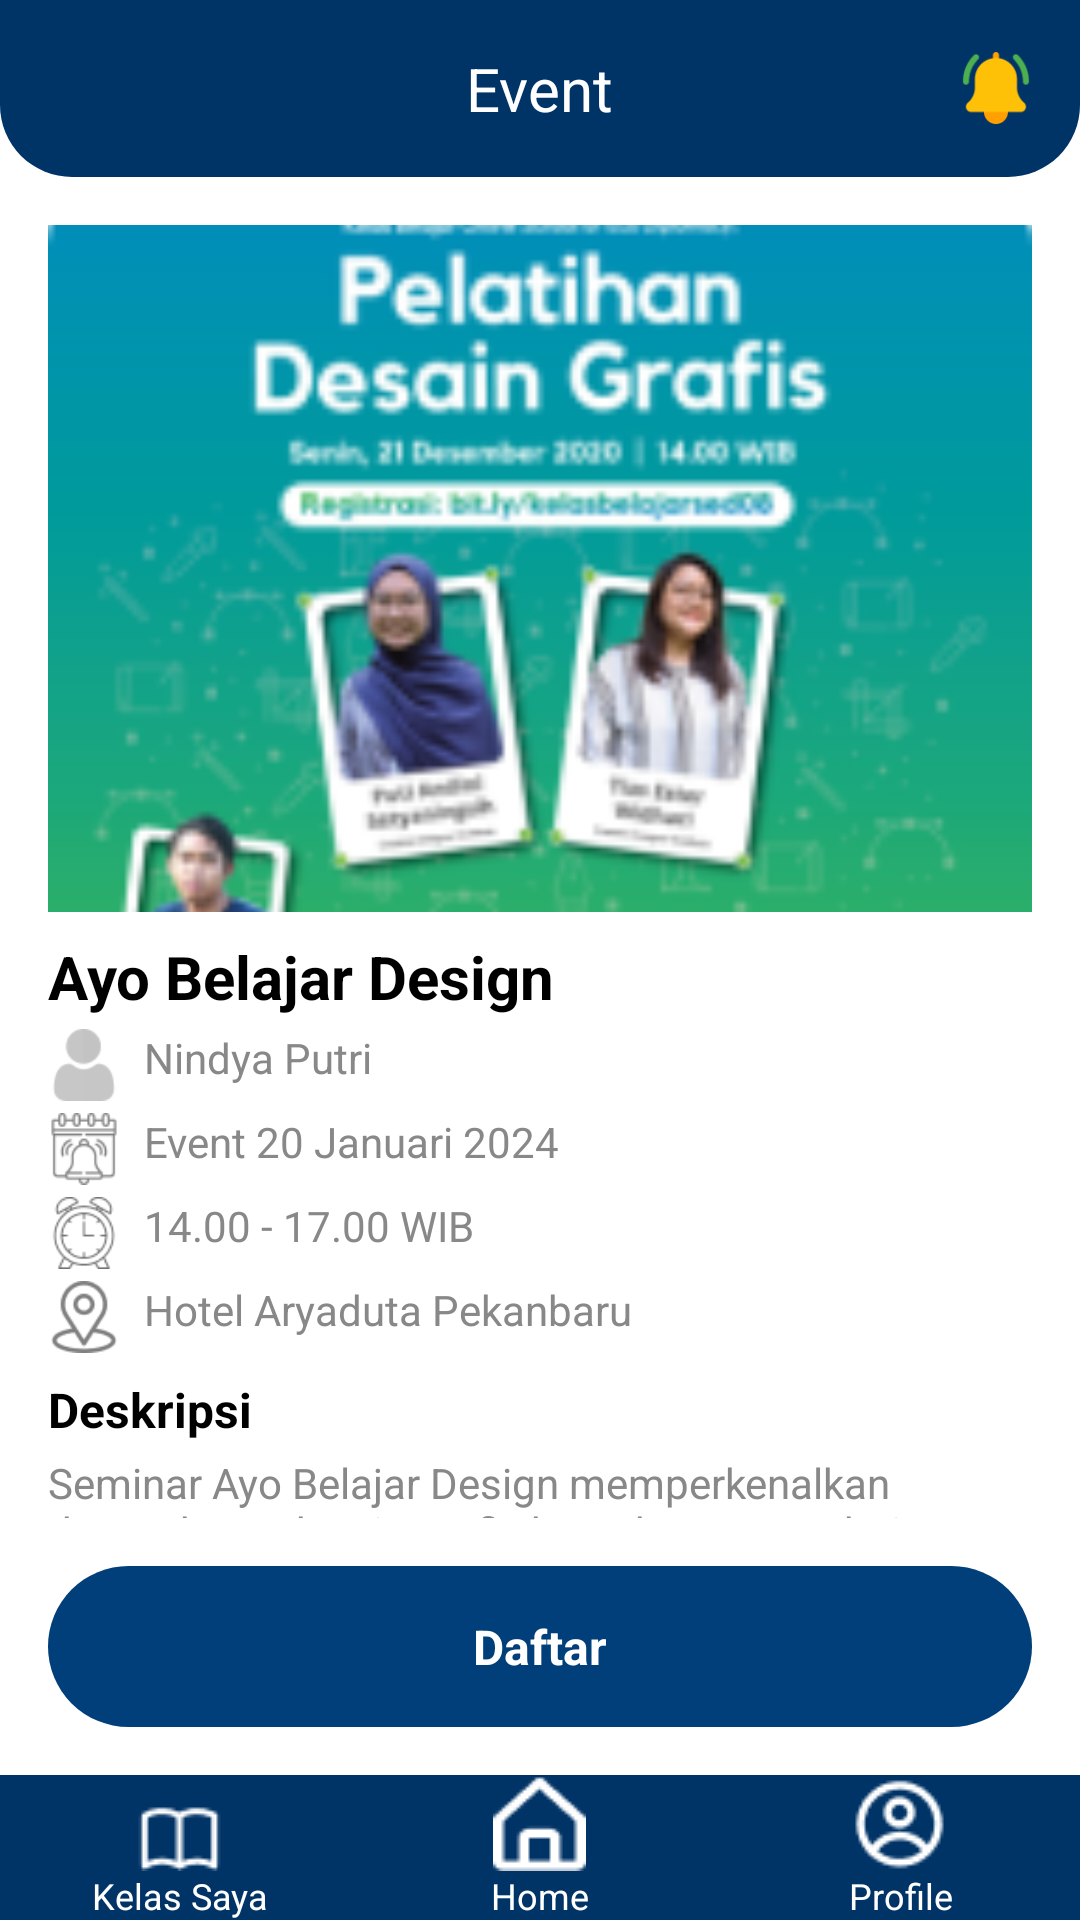

Point at icon controls on the screen. Image size 1080x1920, points as (x=x, y=y).
Date Icon: (x=84, y=1149)
Location Icon: (x=84, y=1317)
Notification: (x=996, y=88)
Speaker Icon: (x=84, y=1065)
Time Icon: (x=84, y=1233)
